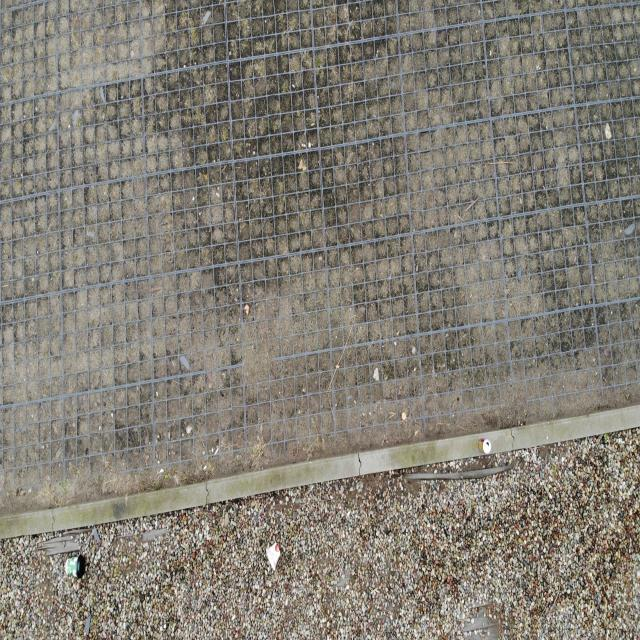rubbish: (65, 555, 87, 577), (266, 538, 281, 570), (477, 437, 491, 455)
